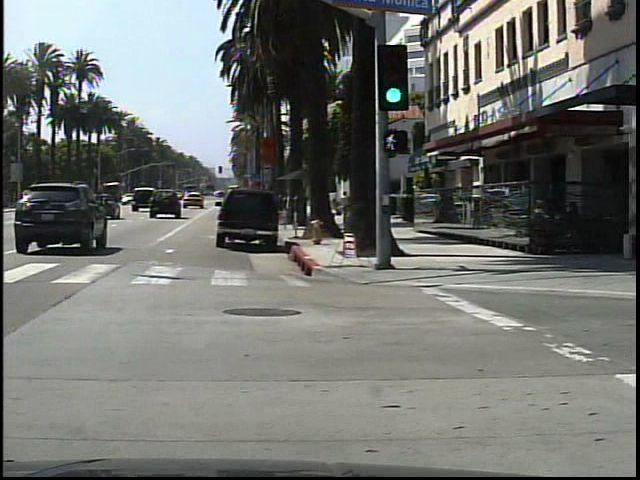person: (339, 184, 353, 226)
